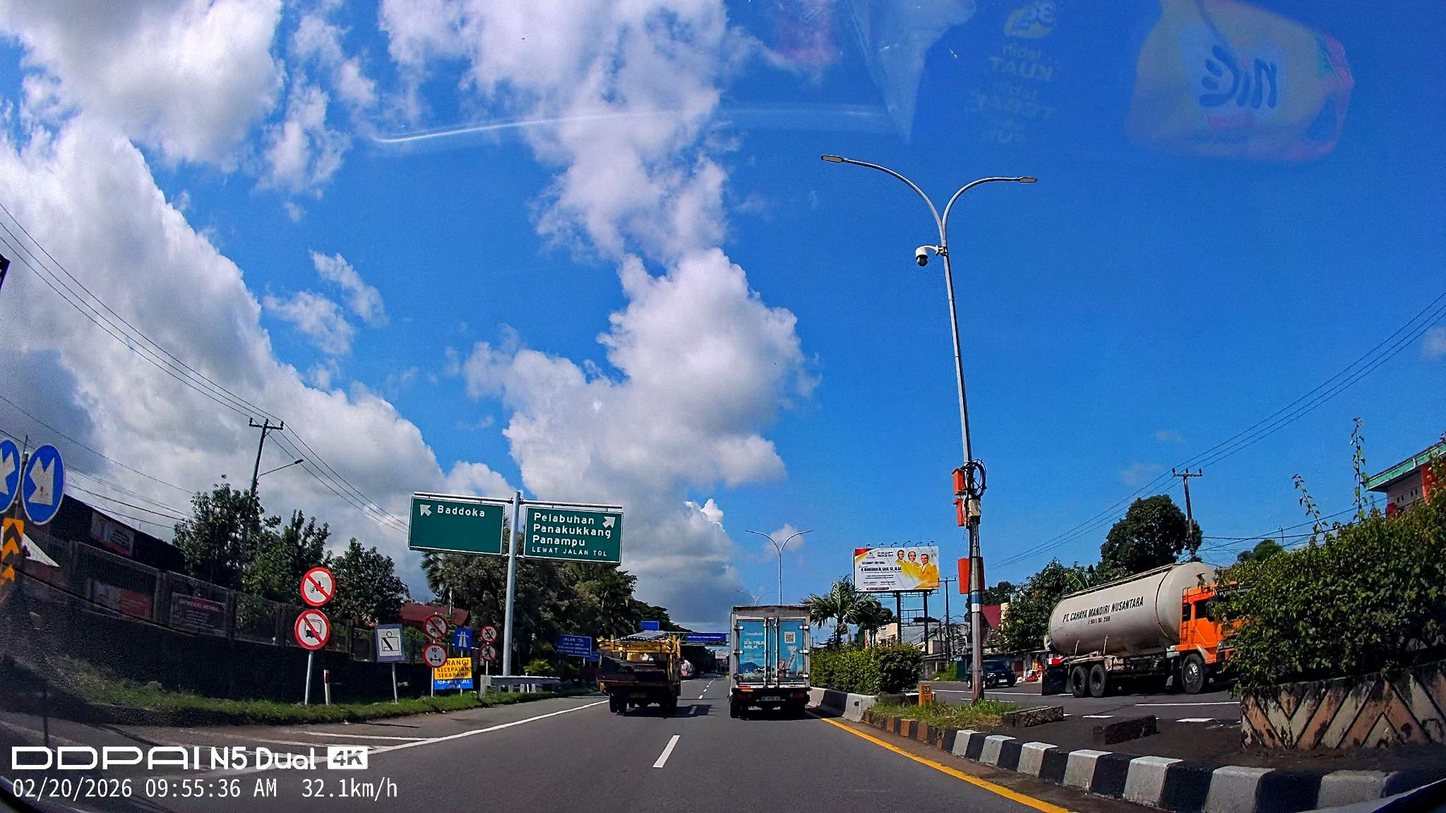rambu_teks: (523, 505, 624, 565), (407, 496, 505, 556)
